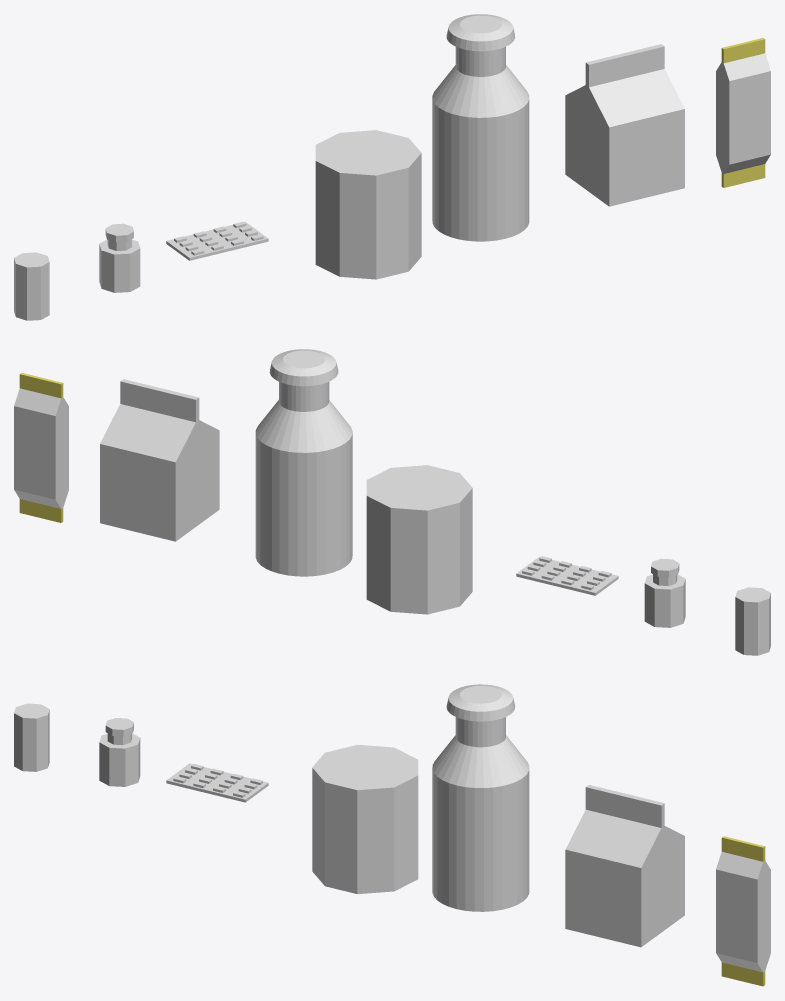
The model's file is Eat.fbx.
The picture shows the model from 3 angles, top to bottom: view 1: azimuth 30°, elevation 25°; view 2: azimuth 150°, elevation 25°; view 3: azimuth 330°, elevation 25°; orthographic projection.
Visible parts, largest first — view 1: Cylinder, Cube.001, Cylinder.001, Cube, Cylinder.002, Cylinder.003, Cube.002; view 2: Cylinder, Cube.001, Cylinder.001, Cube, Cylinder.002, Cylinder.003, Cube.002; view 3: Cylinder, Cube.001, Cylinder.001, Cube, Cylinder.002, Cylinder.003, Cube.002.
Part boxes in pixels (bbox=[...]): Cylinder: bbox=[432, 14, 529, 241]; Cube.001: bbox=[565, 44, 684, 206]; Cylinder.001: bbox=[315, 130, 421, 279]; Cube: bbox=[716, 38, 770, 187]; Cylinder.002: bbox=[99, 223, 140, 292]; Cylinder.003: bbox=[14, 252, 49, 320]; Cube.002: bbox=[166, 221, 268, 260]; Cylinder: bbox=[255, 349, 352, 576]; Cube.001: bbox=[100, 379, 219, 541]; Cylinder.001: bbox=[366, 465, 472, 614]; Cube: bbox=[14, 373, 68, 522]; Cylinder.002: bbox=[644, 558, 685, 627]; Cylinder.003: bbox=[735, 587, 770, 655]; Cube.002: bbox=[516, 556, 618, 595]; Cylinder: bbox=[432, 684, 529, 911]; Cube.001: bbox=[565, 785, 684, 947]; Cylinder.001: bbox=[312, 744, 418, 894]; Cube: bbox=[716, 836, 770, 986]; Cylinder.002: bbox=[99, 718, 140, 786]; Cylinder.003: bbox=[14, 703, 49, 771]; Cube.002: bbox=[166, 763, 268, 802].
Size of the model in its own units: 2532 by 718 by 311.
